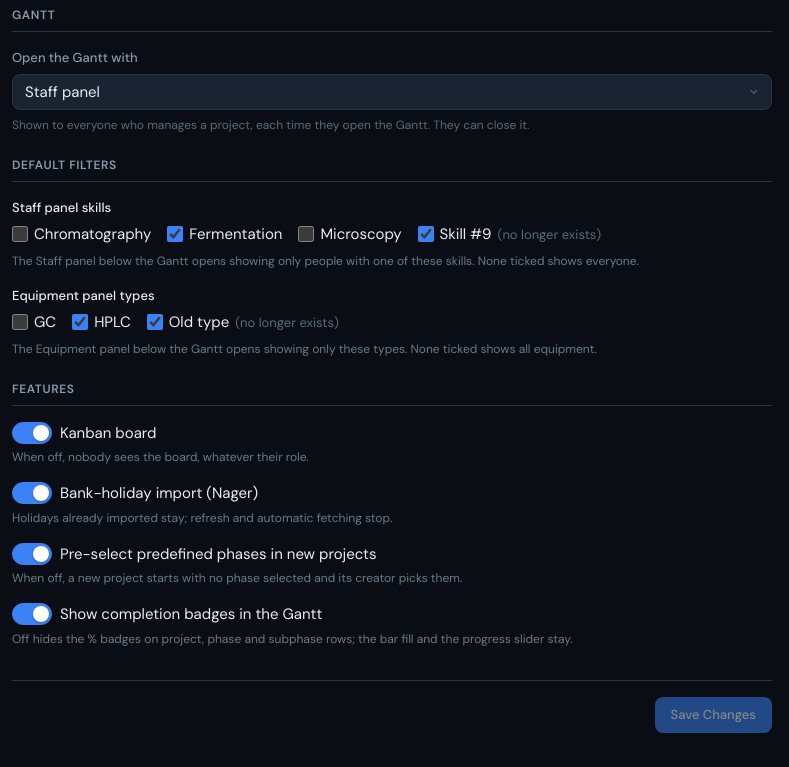
Test: DefaultsPanel › keeps the signed-in user when /auth/me cannot be read
Expected: the dropdown labelled "Open the Gantt with" is shown, [12,74,772,110]
Click the switch labelled "Kanban board".
click(19, 433)  # box [11,425,27,441]
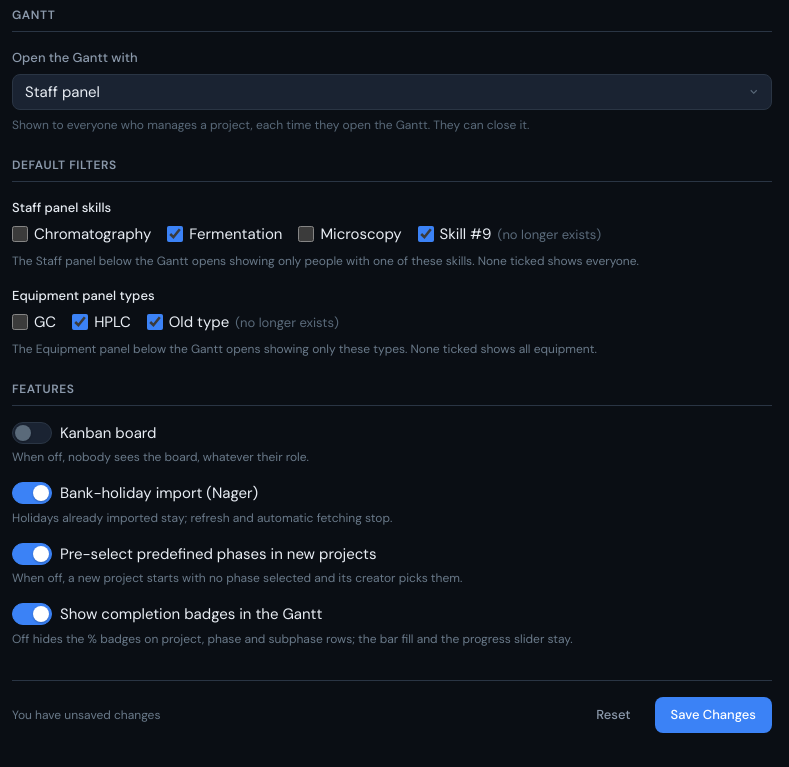
Click the button "Save Changes".
click(713, 714)  # box [655,696,772,732]
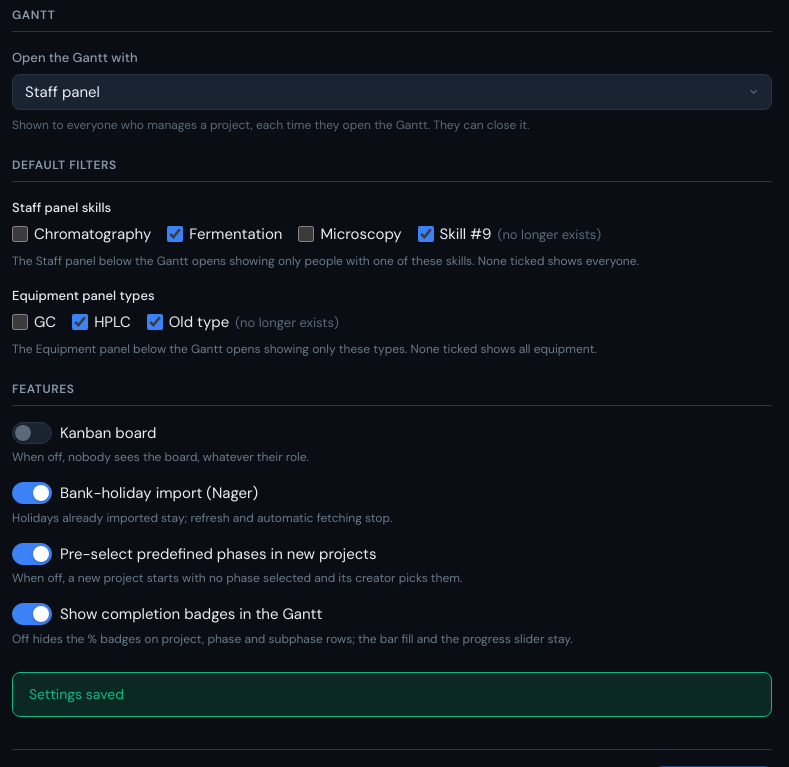
Now the text "Settings saved" is shown, box [29,684,124,702]
